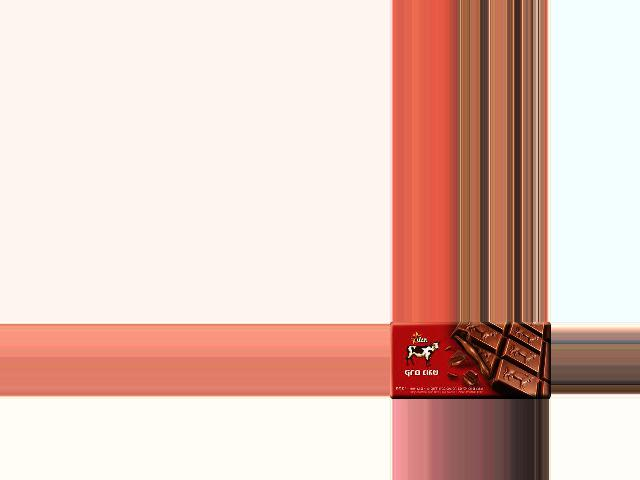chocolate: (389, 322, 548, 397)
